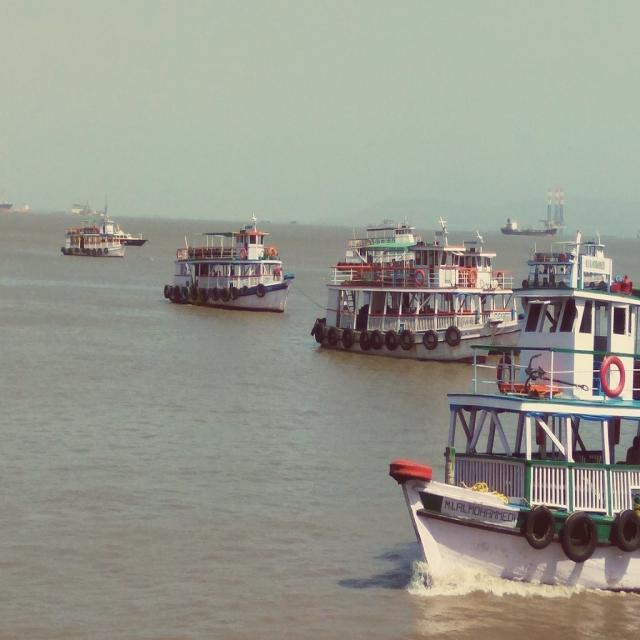boat: (315, 239, 513, 356), (158, 235, 298, 316), (62, 227, 128, 259), (498, 224, 564, 243), (365, 222, 407, 235)
